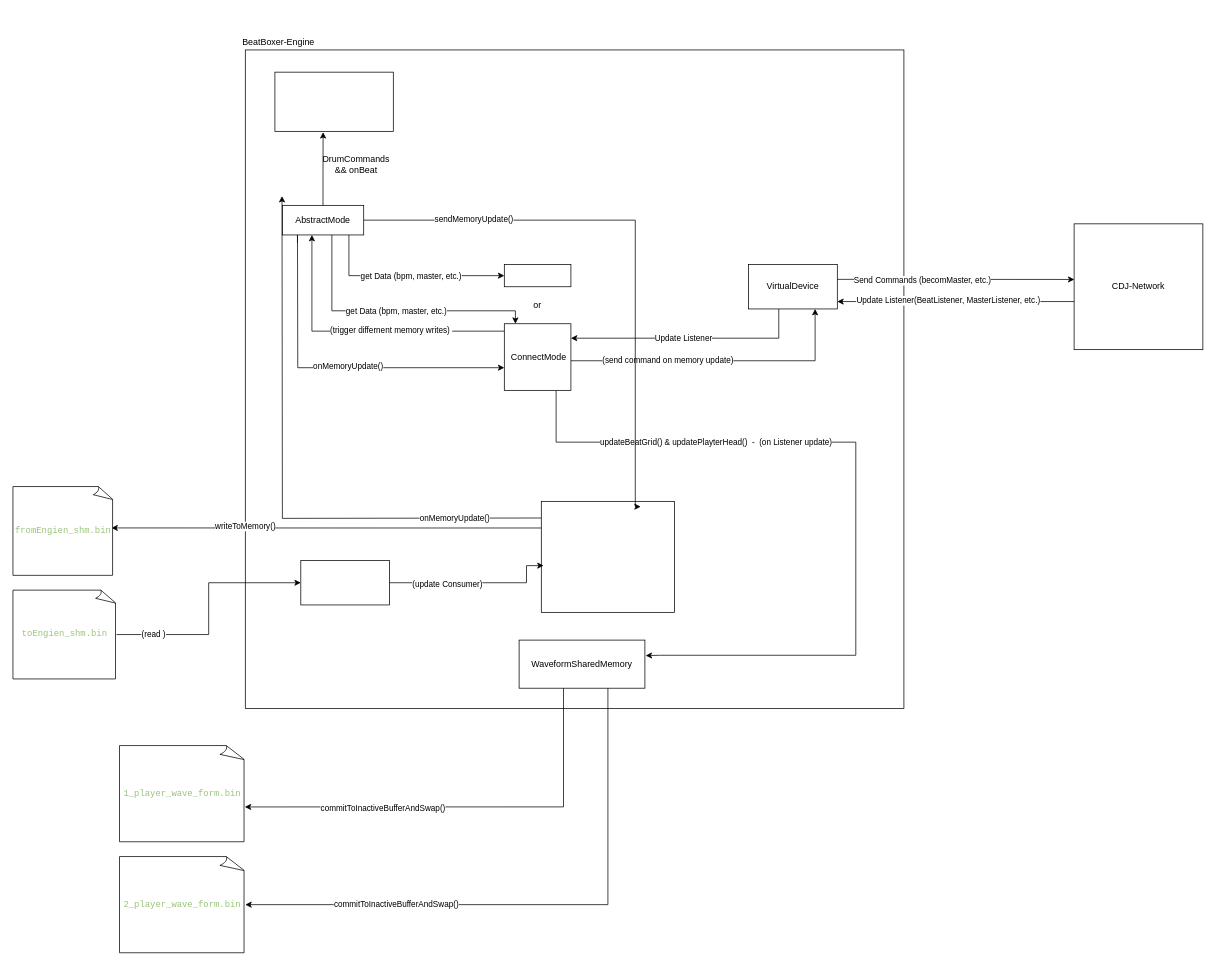
The diagram is 1216 pixels wide and 966 high, and some of its shapes have lost their labels. Here are the shapes that lost their labels. From the top down, the centre of each, then its label:
(333,101): DrumMachine
(537,275): OfflineMode
(608,556): SharedMemoryProvider
(345,582): HighPerfReader
